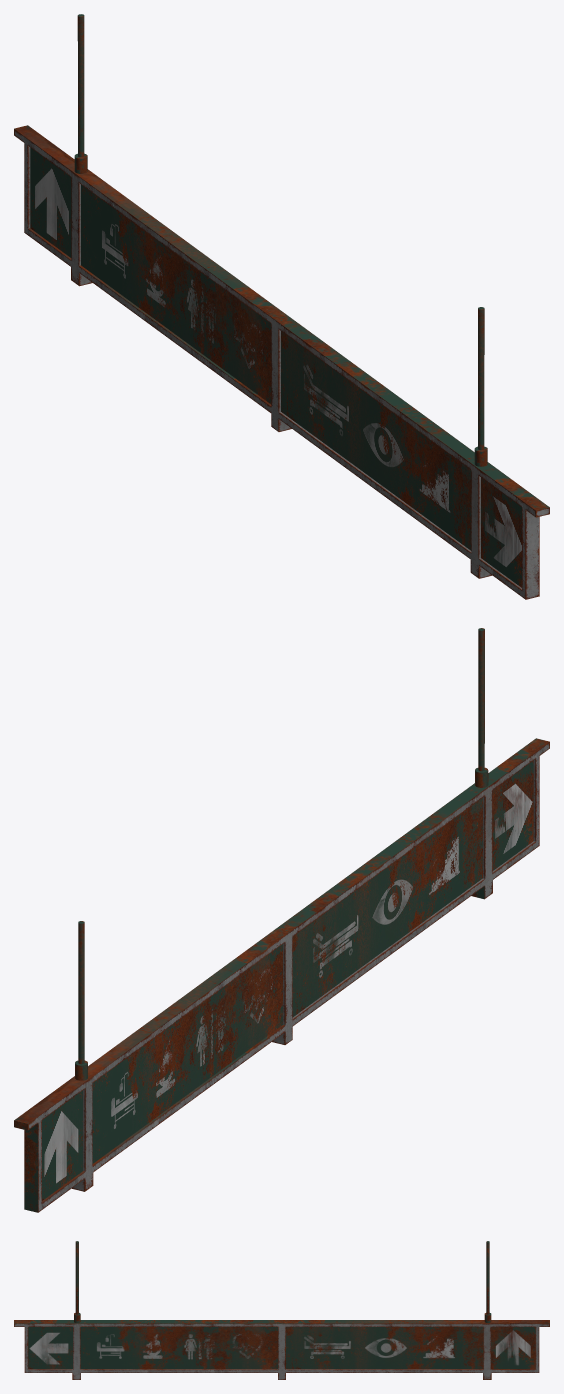
Rendered from hospital_hanging_signage_-_rusted.glb.
The picture shows the model from 3 angles, top to bottom: view 1: azimuth 30°, elevation 25°; view 2: azimuth 150°, elevation 25°; view 3: azimuth 270°, elevation 25°; orthographic projection. The views are drawn at different scales.
Parts seen in each view (by area): view 1: SM_signage, SM_signage_wire.004, SM_signage_wire; view 2: SM_signage, SM_signage_wire, SM_signage_wire.004; view 3: SM_signage, SM_signage_wire.004, SM_signage_wire.
Boxes of the visible parts, box(x1,y1,x2,y2) form: SM_signage: box(14, 125, 549, 599); SM_signage_wire.004: box(74, 14, 87, 173); SM_signage_wire: box(474, 307, 487, 466); SM_signage: box(14, 738, 549, 1212); SM_signage_wire: box(475, 628, 488, 787); SM_signage_wire.004: box(75, 921, 87, 1080); SM_signage: box(14, 1320, 549, 1379); SM_signage_wire.004: box(484, 1241, 491, 1322); SM_signage_wire: box(74, 1241, 80, 1322).
Size of the model in its own units: 6.53 by 119 by 425.
Materials: 1 (1 with a texture image).
